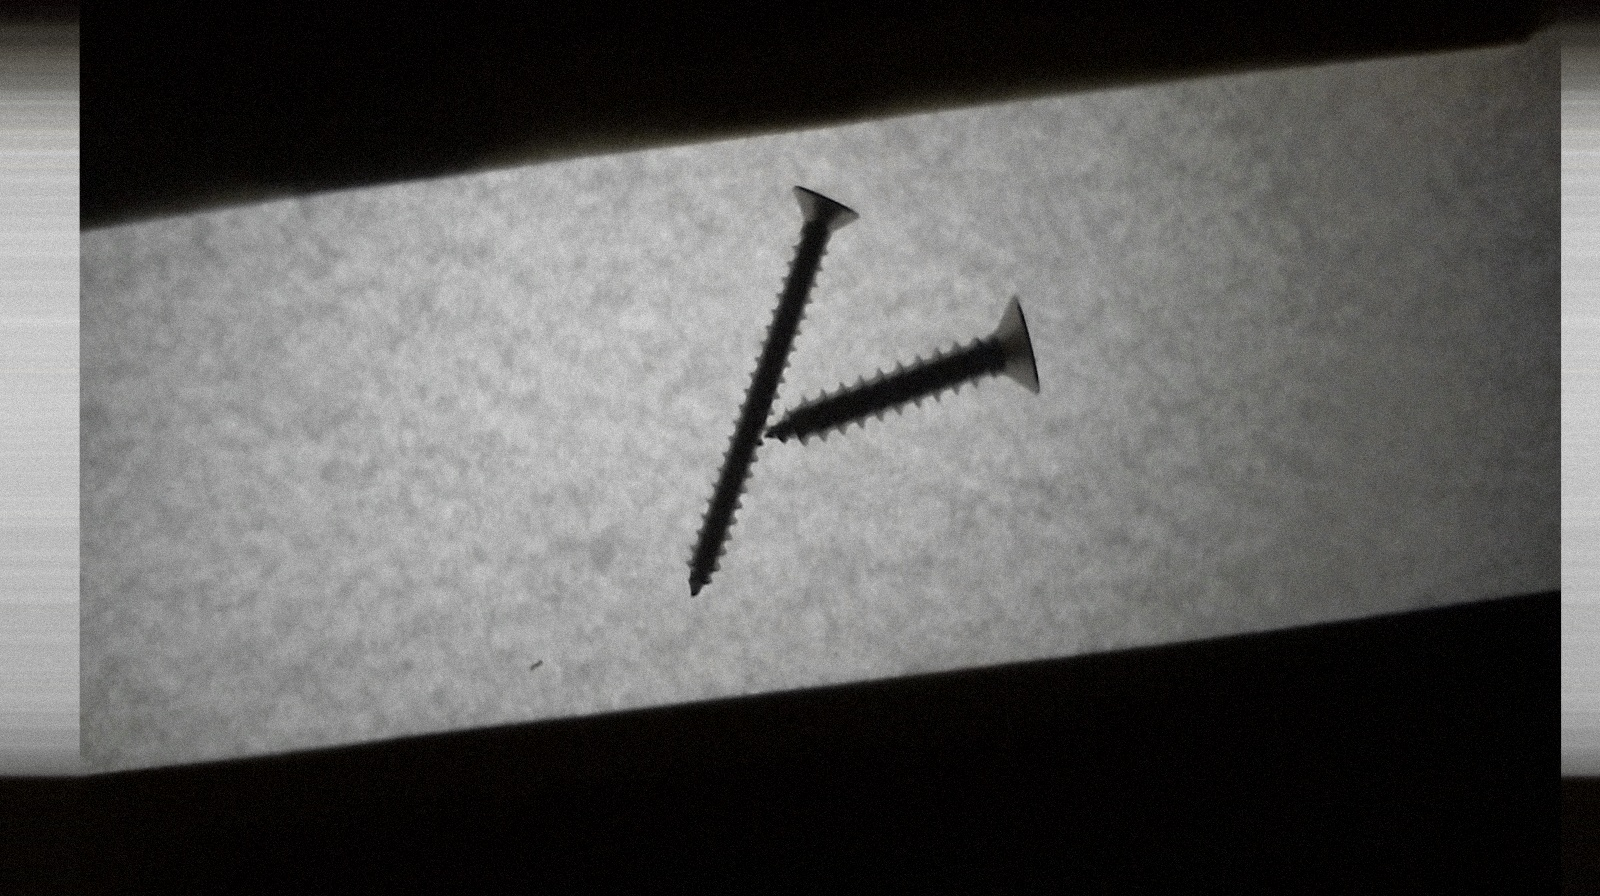S001: (760, 294, 1046, 443)
S002: (689, 177, 860, 593)
